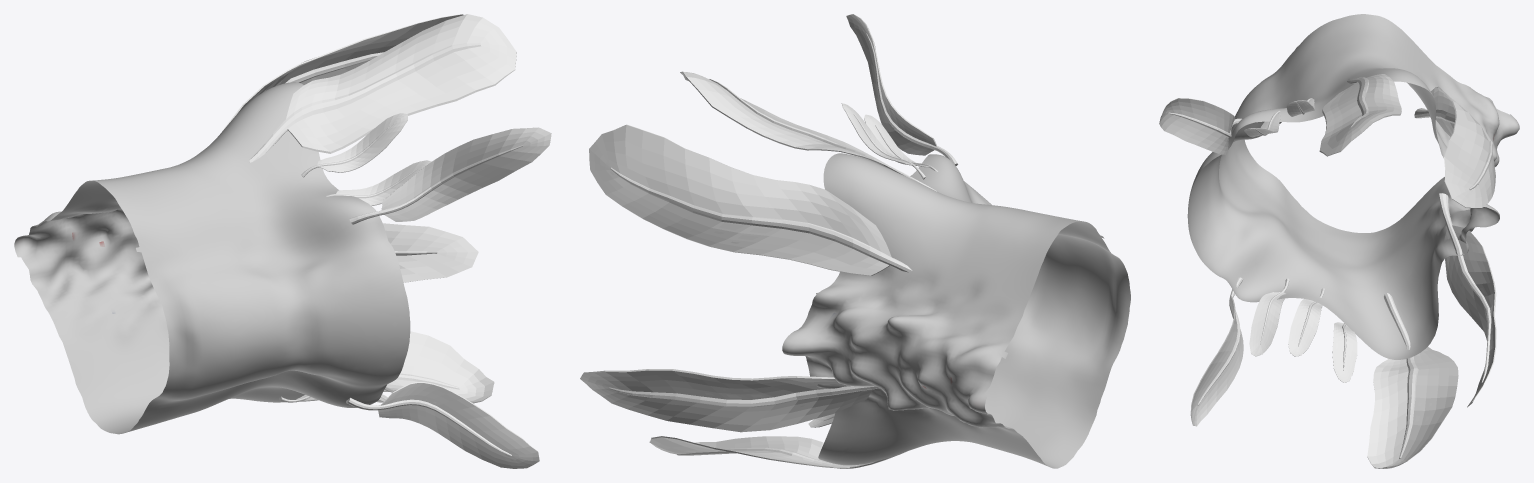
The model's file is bodyPart02.gltf.
3 renders of one model, left to right at view 1: azimuth 30°, elevation 25°; view 2: azimuth 150°, elevation 25°; view 3: azimuth 270°, elevation 25°, orthographic. The views are drawn at different scales.
Parts seen in each view (by area): view 1: bodyPart02; view 2: bodyPart02; view 3: bodyPart02.
Boxes of the visible parts, bbox=[...] form: bodyPart02: bbox=[14, 14, 551, 468]; bodyPart02: bbox=[580, 14, 1130, 468]; bodyPart02: bbox=[1159, 14, 1519, 468].
Size of the model in its own units: 1.24 by 1.03 by 0.9735.
Materials: 2 (1 with a texture image).
